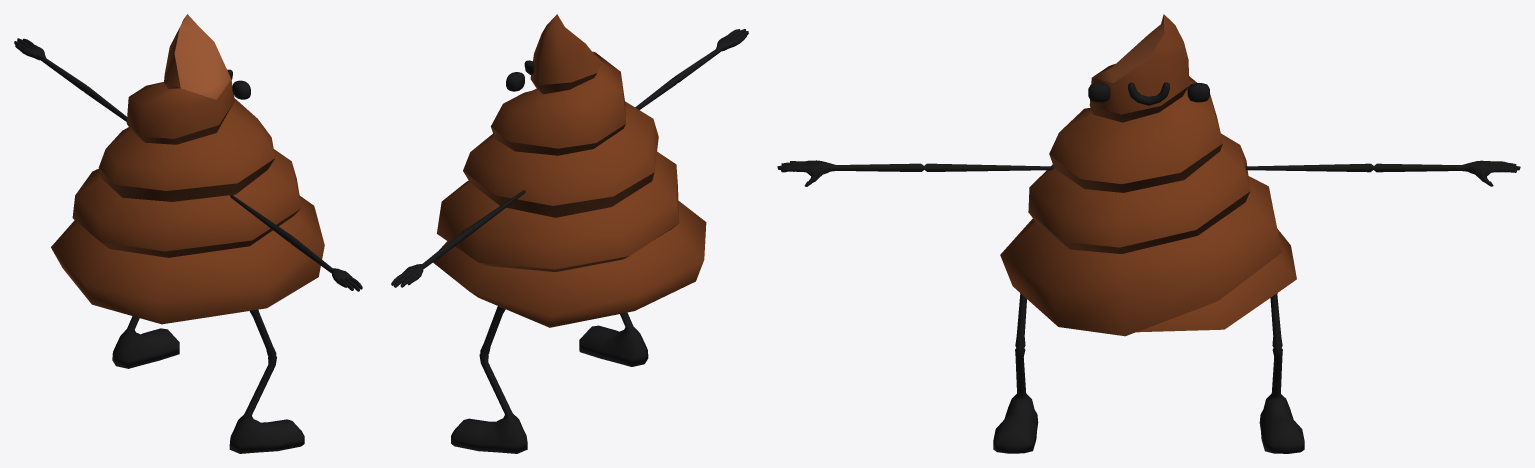
Rendered from scene_7qOLK8SMTG.glb.
3 renders of one model, left to right at view 1: azimuth 30°, elevation 25°; view 2: azimuth 150°, elevation 25°; view 3: azimuth 270°, elevation 25°, orthographic. The views are drawn at different scales.
Visible parts, largest first — view 1: _100Avatars_176_CoolPoo; view 2: _100Avatars_176_CoolPoo; view 3: _100Avatars_176_CoolPoo.
Part boxes in pixels (x1,y1,x2,y2): _100Avatars_176_CoolPoo: [14, 14, 362, 453]; _100Avatars_176_CoolPoo: [391, 14, 748, 453]; _100Avatars_176_CoolPoo: [777, 14, 1520, 453].
Size of the model in its own units: 2.75 by 4.37 by 7.07.
Materials: 1 (1 with a texture image).
